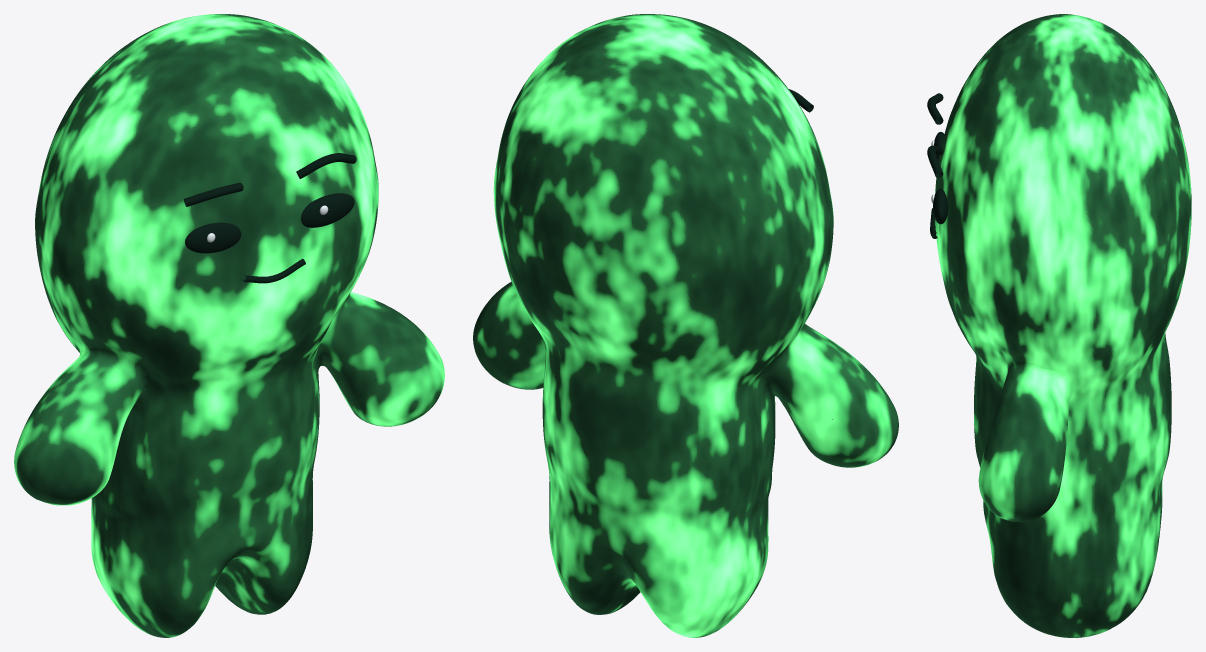
File: SaJu_B_Jade_Character_Study.glb
3 renders of one model, left to right at view 1: azimuth 30°, elevation 25°; view 2: azimuth 150°, elevation 25°; view 3: azimuth 270°, elevation 25°, orthographic. The views are drawn at different scales.
Visible parts, largest first — view 1: B candidate5 reconstructed | seamless body and mittens, B | almond gaze -1, B | almond gaze 1; view 2: B candidate5 reconstructed | seamless body and mittens; view 3: B candidate5 reconstructed | seamless body and mittens, B | almond gaze 1.
Boxes of the visible parts, box(x1,y1,x2,y2) form: B candidate5 reconstructed | seamless body and mittens: box(14, 14, 444, 637); B | almond gaze -1: box(185, 222, 241, 253); B | almond gaze 1: box(301, 193, 354, 227); B candidate5 reconstructed | seamless body and mittens: box(473, 14, 898, 637); B candidate5 reconstructed | seamless body and mittens: box(935, 14, 1191, 637); B | almond gaze 1: box(933, 188, 948, 224).
Bounding box in the file's own units: 1.75 × 2.38 × 0.9795.
Materials: 3 (1 with a texture image).
